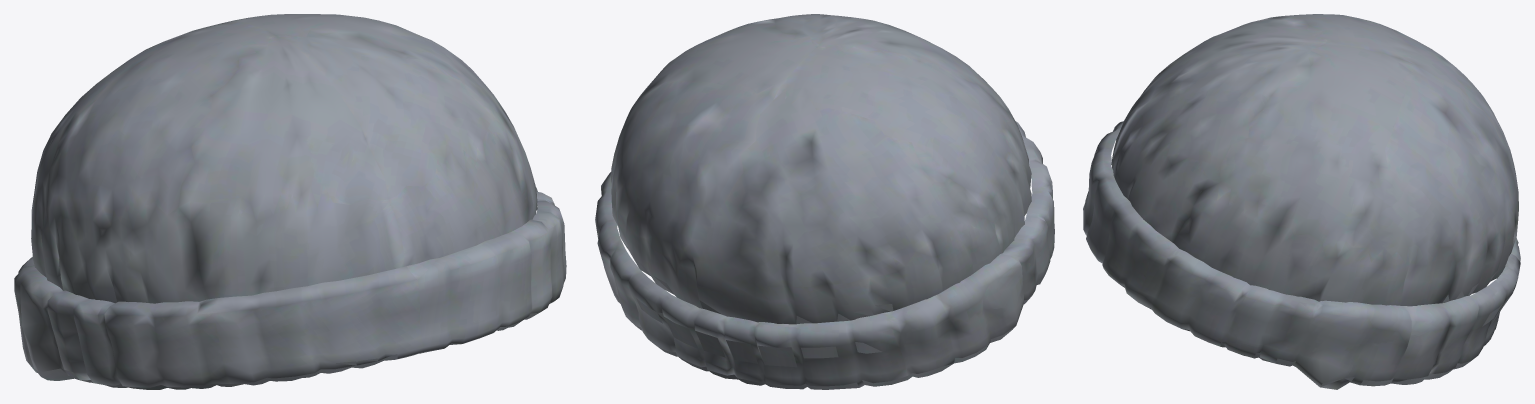
The model's file is mak_beanie_v2.glb.
3 views of the same model, side by side, from view 1: azimuth 30°, elevation 25°; view 2: azimuth 150°, elevation 25°; view 3: azimuth 270°, elevation 25° (orthographic). The views are drawn at different scales.
Parts seen in each view (by area): view 1: mak_beanie_v2; view 2: mak_beanie_v2; view 3: mak_beanie_v2.
Boxes of the visible parts, <box> form: mak_beanie_v2: <box>14,14,566,389</box>; mak_beanie_v2: <box>595,14,1054,389</box>; mak_beanie_v2: <box>1083,14,1520,389</box>.
Bounding box in the file's own units: 0.5401 × 0.3561 × 0.4967.
1 material, 1 textured.
